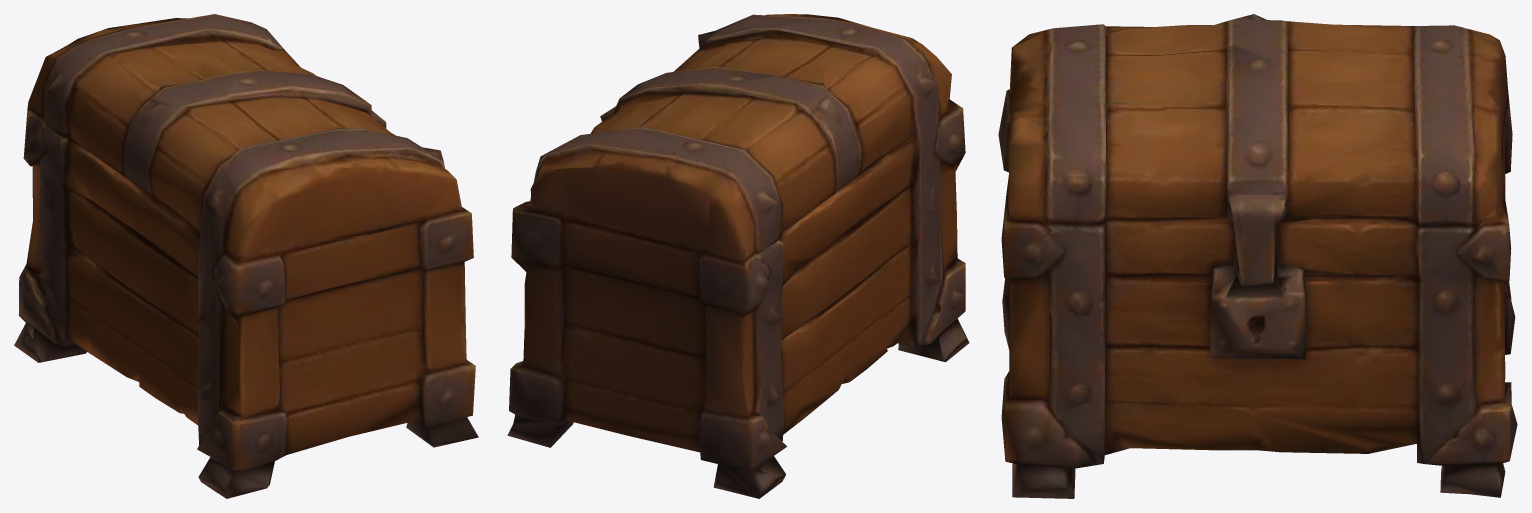
File: model-prop-chest-wooden-01.glb
3 renders of one model, left to right at view 1: azimuth 30°, elevation 25°; view 2: azimuth 150°, elevation 25°; view 3: azimuth 270°, elevation 25°, orthographic. The views are drawn at different scales.
Parts seen in each view (by area): view 1: tripo_node_5433c933-97b6-4af8-9ae0-291cbab0ba82; view 2: tripo_node_5433c933-97b6-4af8-9ae0-291cbab0ba82; view 3: tripo_node_5433c933-97b6-4af8-9ae0-291cbab0ba82.
Boxes of the visible parts, left/top/right/bottom form: tripo_node_5433c933-97b6-4af8-9ae0-291cbab0ba82: left=14, top=14, right=478, bottom=498; tripo_node_5433c933-97b6-4af8-9ae0-291cbab0ba82: left=507, top=14, right=969, bottom=498; tripo_node_5433c933-97b6-4af8-9ae0-291cbab0ba82: left=998, top=14, right=1517, bottom=498.
Size of the model in its own units: 0.3959 by 0.45 by 0.5732.
Materials: 1 (1 with a texture image).
